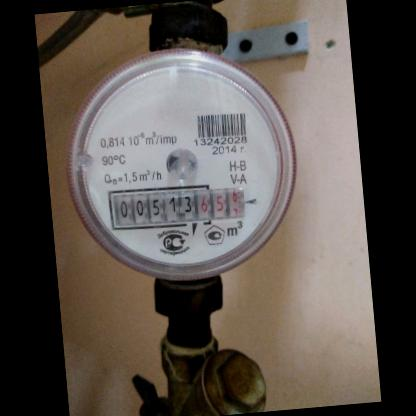digital_screen: (106, 182, 200, 234)
